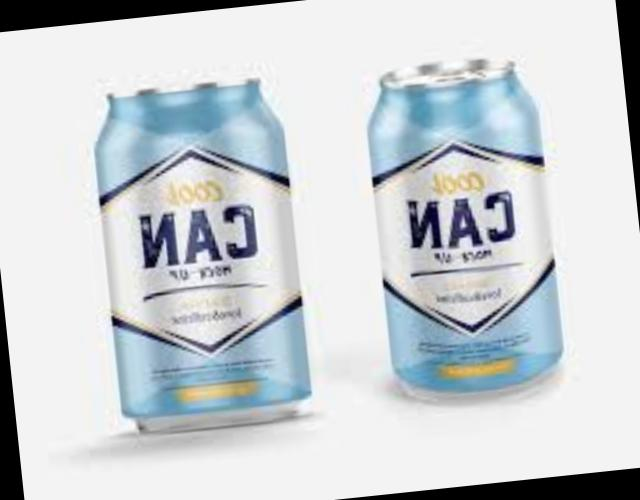metal: (99, 77, 314, 424), (372, 58, 566, 390)
